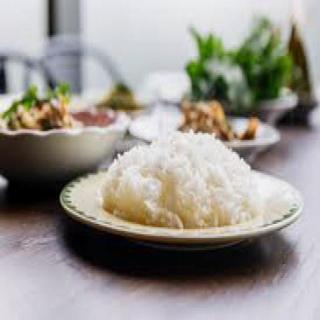Nasi: (100, 128, 263, 230)
